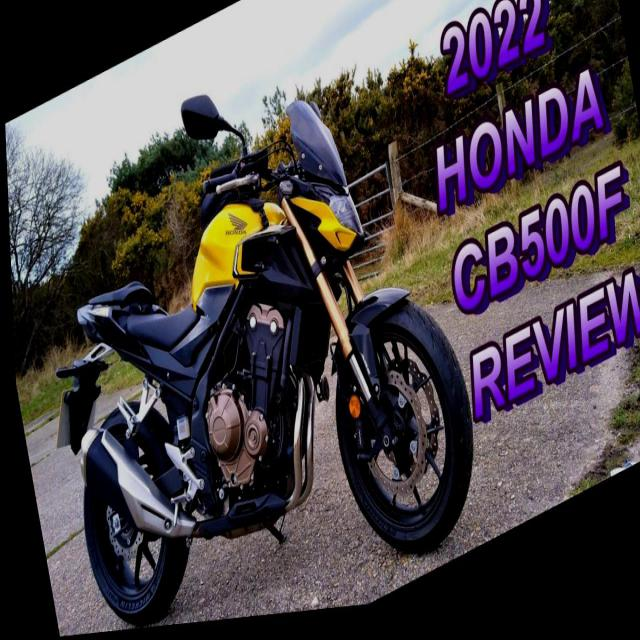CB500F: (14, 44, 488, 638)
